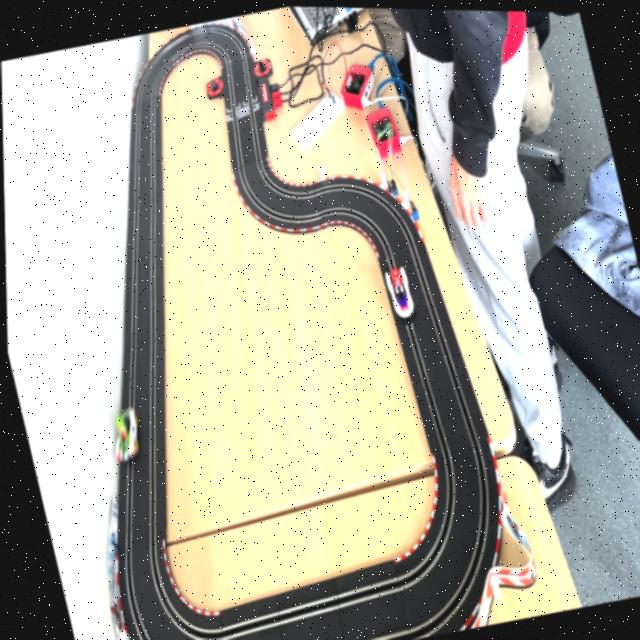mario: (382, 260, 416, 320)
yoshi: (100, 399, 148, 467)
